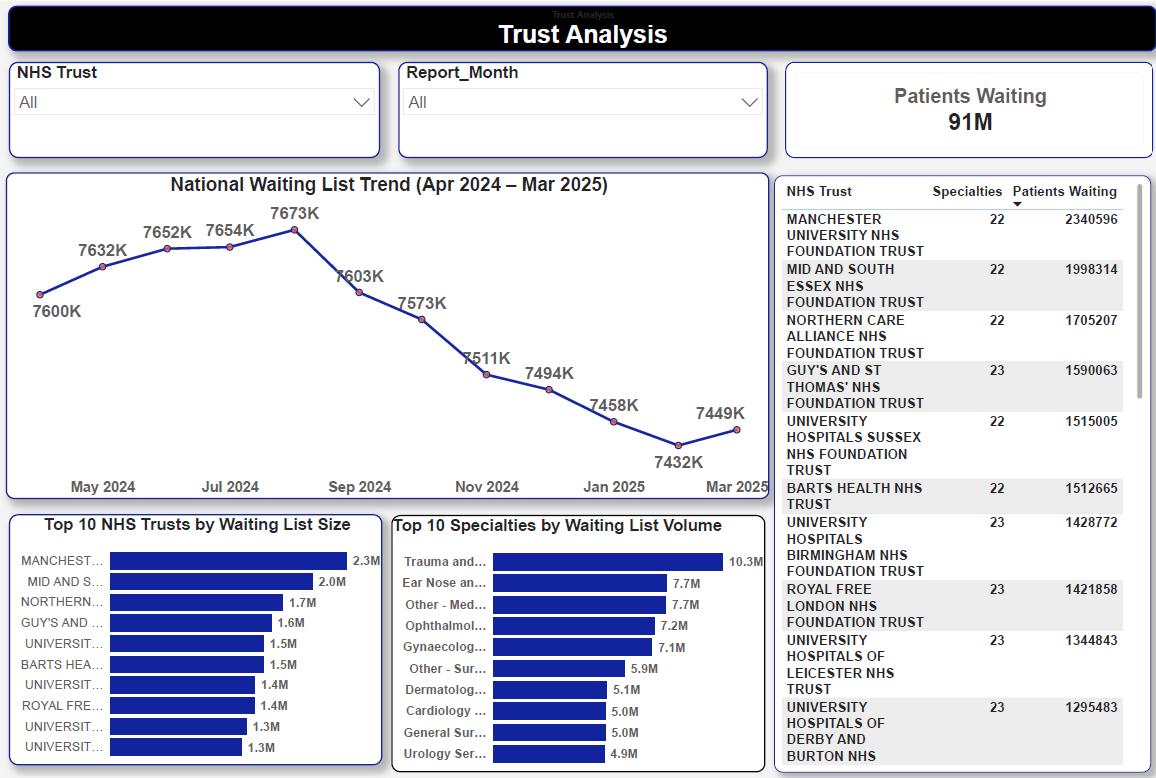

The page's visual inventory and layout, read from the dashboard file:
{"tool":"powerbi","page":{"name":"Trust Analysis","canvas":[1500,1000],"ordinal":1},"visuals":[{"type":"textbox","box":[12.4,4.9,1476.6,59.4],"z":0},{"type":"slicer","fields":{"Values":["Raw Data.Trust_Name"]},"box":[13.5,77.2,476.8,123.7],"z":1000},{"type":"slicer","fields":{"Values":["Raw Data.Report_Month"]},"box":[512.5,77.2,475,123.7],"z":2000},{"type":"lineChart","title":"National Waiting List Trend (Apr 2024 – Mar 2025)","fields":{"Category":["Raw Data.Report_Month.Variation.Date Hierarchy.Year","Raw Data.Report_Month.Variation.Date Hierarchy.Month"],"Y":["Caculated Measure.Total Patients Waiting"]},"box":[9.4,219.3,980.6,419.8],"z":3000},{"type":"clusteredBarChart","title":"Top 10 NHS Trusts by Waiting List Size","fields":{"Category":["Raw Data.Trust_Name"],"Y":["Caculated Measure.Total Patients Waiting"]},"box":[12.5,657.9,480,322.7],"z":4000},{"type":"clusteredBarChart","title":"Top 10 Specialties by Waiting List Volume","fields":{"Y":["Caculated Measure.Total Patients Waiting"],"Category":["Raw Data.Specialty_Name"]},"box":[503.8,658.9,481.3,330.6],"z":5000},{"type":"tableEx","fields":{"Values":["Raw Data.Trust_Name","Caculated Measure.Clinical Specialties","Caculated Measure.Total Patients Waiting"]},"box":[996.3,222.6,483.5,766.9],"z":6000},{"type":"cardVisual","fields":{"Data":["Caculated Measure.Total Patients Waiting"]},"box":[1009.8,77.2,474.5,123.7],"z":7000}]}

Visuals, with their boxes in screenshot pixels (x1, y1, x2, y2), scaled from the page's 1500x1000 canvas onto the 1156x778 screenshot:
textbox: bbox=[10, 4, 1148, 50]
slicer - Raw Data.Trust_Name: bbox=[10, 60, 378, 156]
slicer - Raw Data.Report_Month: bbox=[395, 60, 761, 156]
"National Waiting List Trend (Apr 2024 – Mar 2025)" lineChart: bbox=[7, 171, 763, 497]
"Top 10 NHS Trusts by Waiting List Size" clusteredBarChart: bbox=[10, 512, 380, 763]
"Top 10 Specialties by Waiting List Volume" clusteredBarChart: bbox=[388, 513, 759, 770]
tableEx - Raw Data.Trust_Name x Caculated Measure.Clinical Specialties: bbox=[768, 173, 1140, 770]
cardVisual - Caculated Measure.Total Patients Waiting: bbox=[778, 60, 1144, 156]
